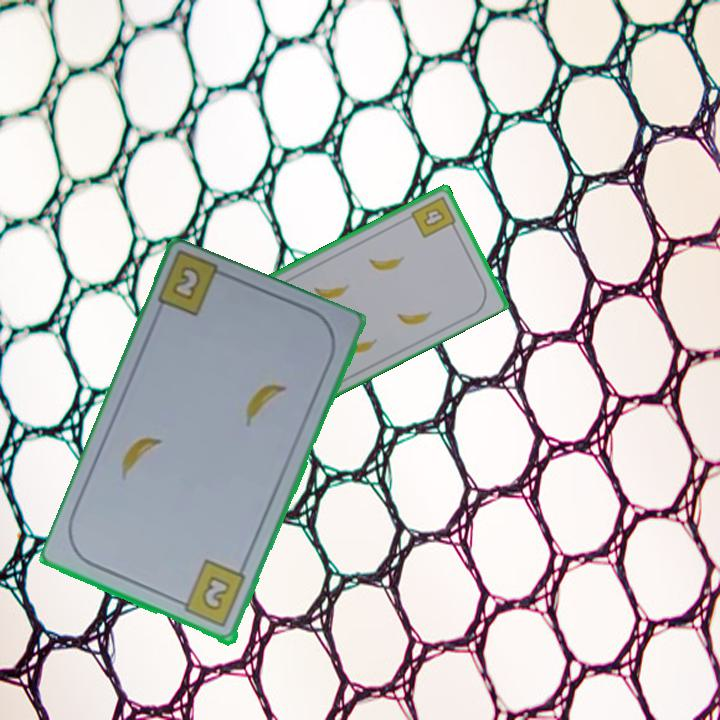2b: (173, 557, 249, 631), (168, 263, 204, 304)
4b: (407, 192, 460, 241)
